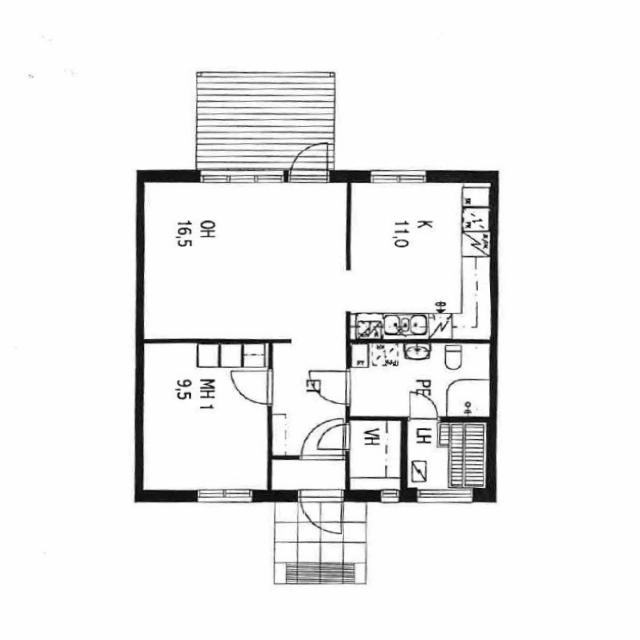door: (300, 490, 342, 539), (302, 419, 343, 460), (291, 138, 327, 182), (308, 370, 351, 404), (230, 371, 272, 404), (316, 424, 351, 449), (410, 392, 438, 420)
